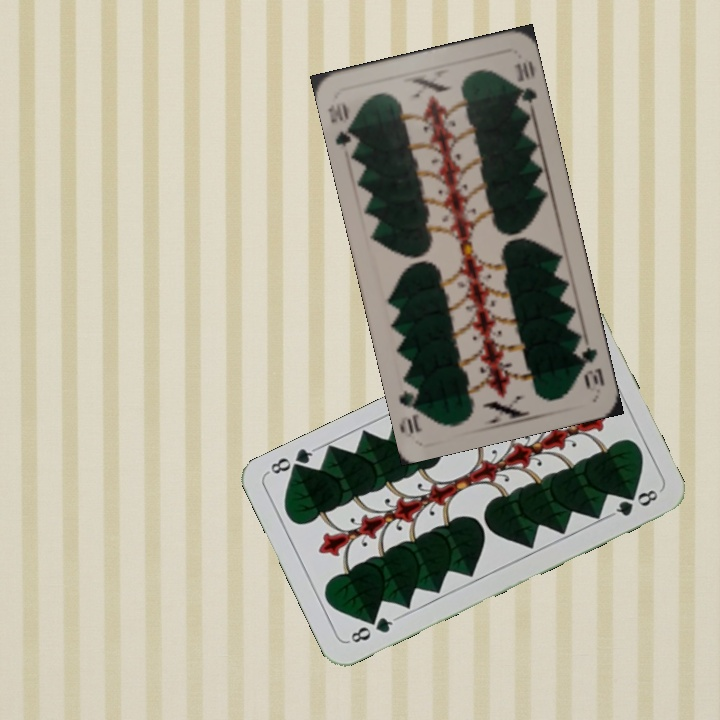G10: (572, 336, 607, 391), (325, 98, 360, 150)
G8: (344, 613, 400, 646)
